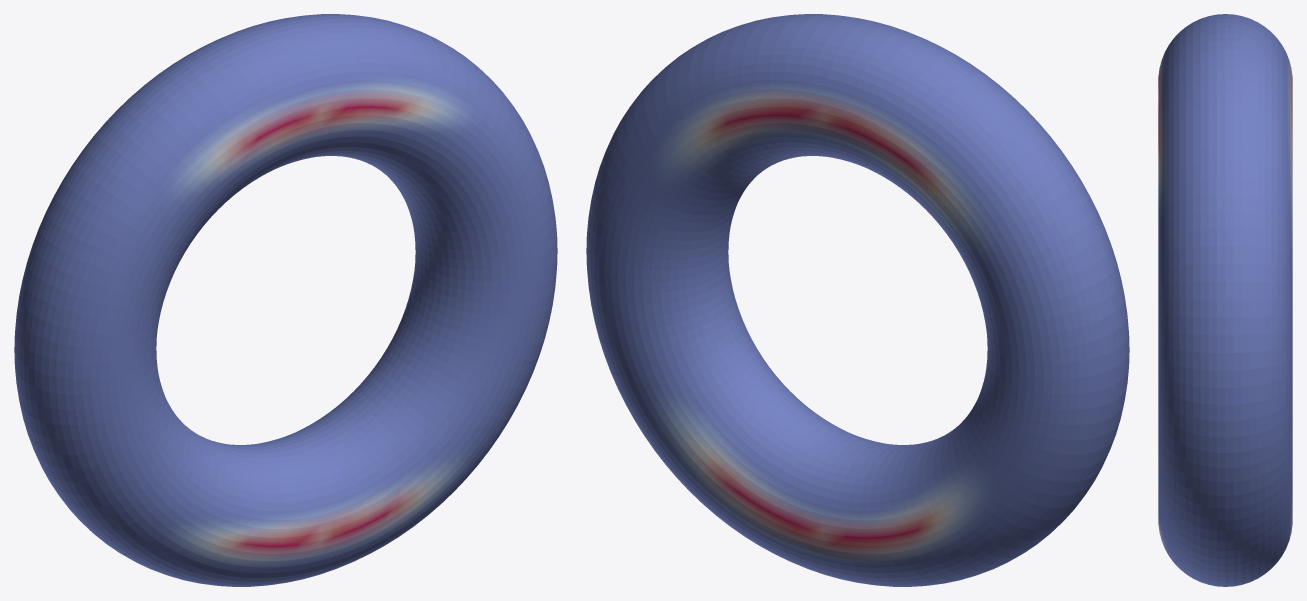
The picture shows the model from 3 angles, left to right: view 1: azimuth 30°, elevation 25°; view 2: azimuth 150°, elevation 25°; view 3: azimuth 270°, elevation 25°; orthographic projection. The views are drawn at different scales.
Parts seen in each view (by area): view 1: world; view 2: world; view 3: world.
Boxes of the visible parts, box(x1,y1,x2,y2) form: world: box(14, 14, 557, 586); world: box(586, 14, 1129, 586); world: box(1158, 14, 1292, 586).
Bounding box in the file's own units: 13.07 × 13.07 × 3.06.
